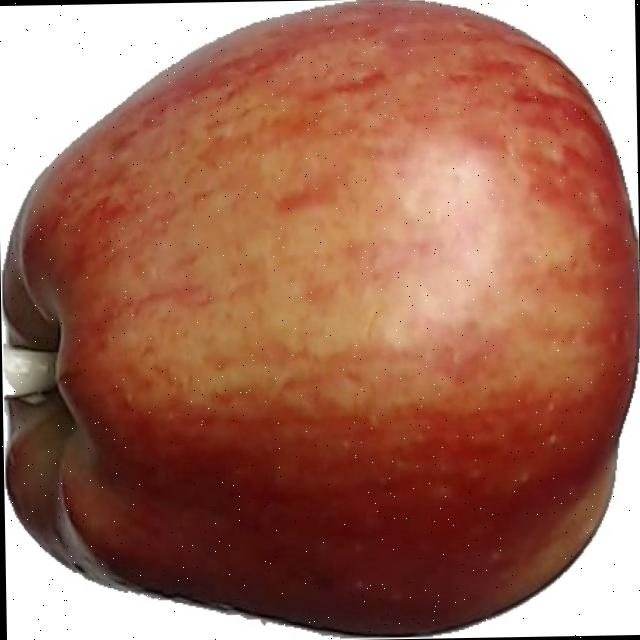apple: (3, 4, 636, 634)
